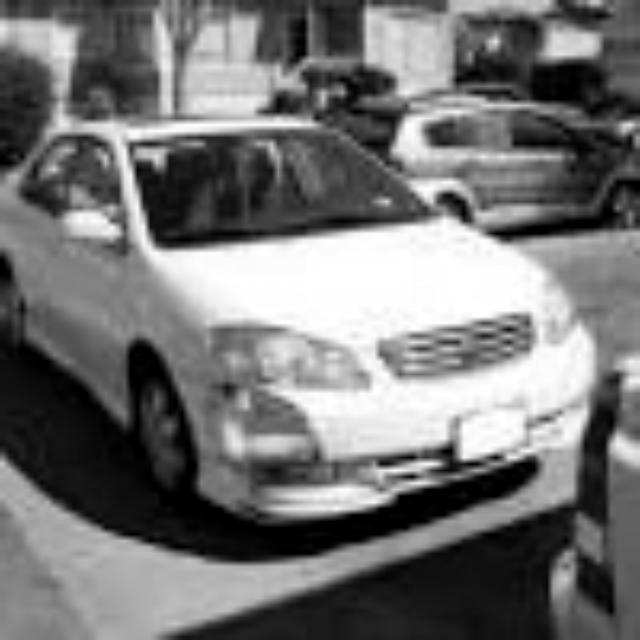front-bumper-dent: (205, 378, 505, 525)
